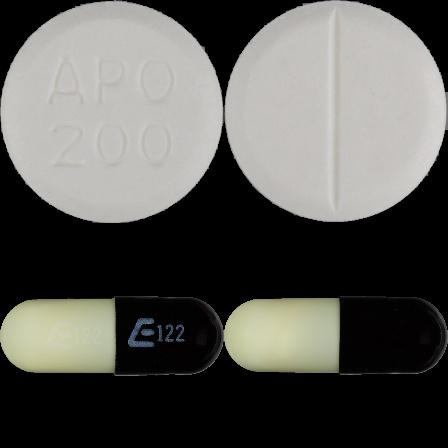68084-444: (0, 0, 224, 224)
